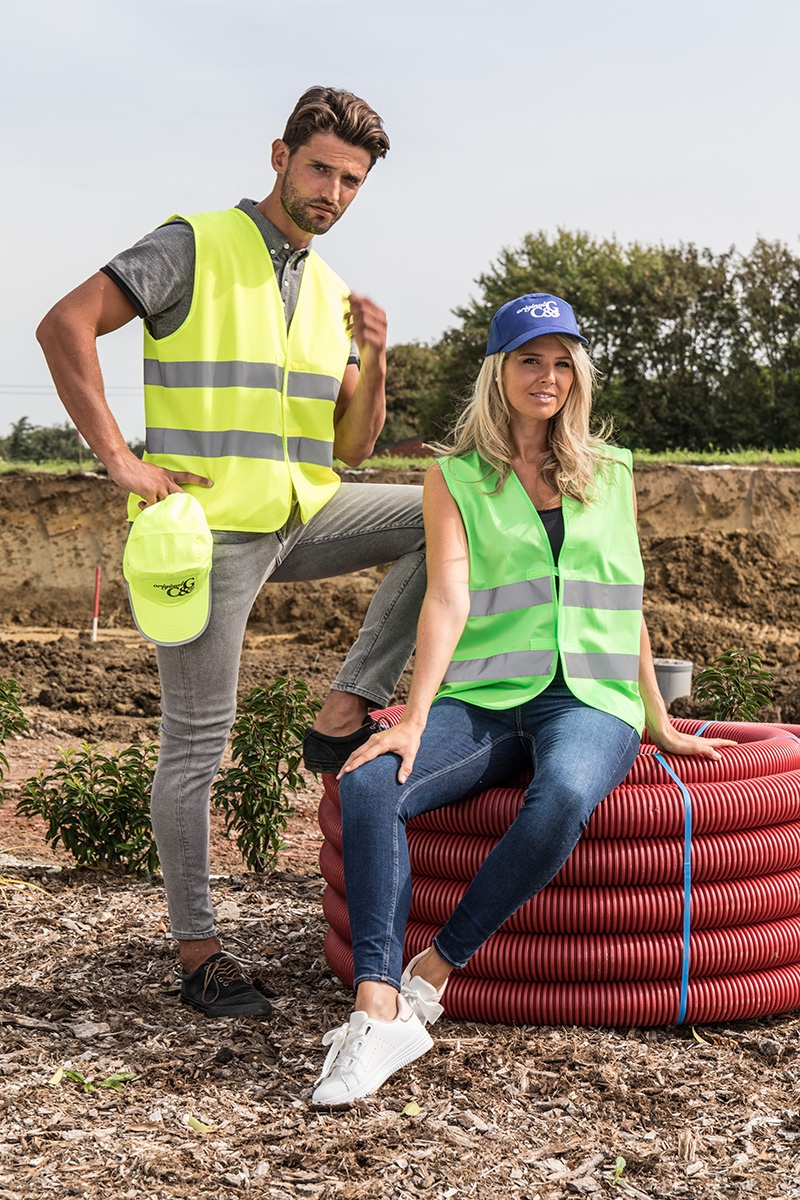person with partial safety: (64, 94, 422, 992), (399, 292, 673, 1092)
safety vest: (446, 429, 664, 742), (143, 214, 361, 520)
